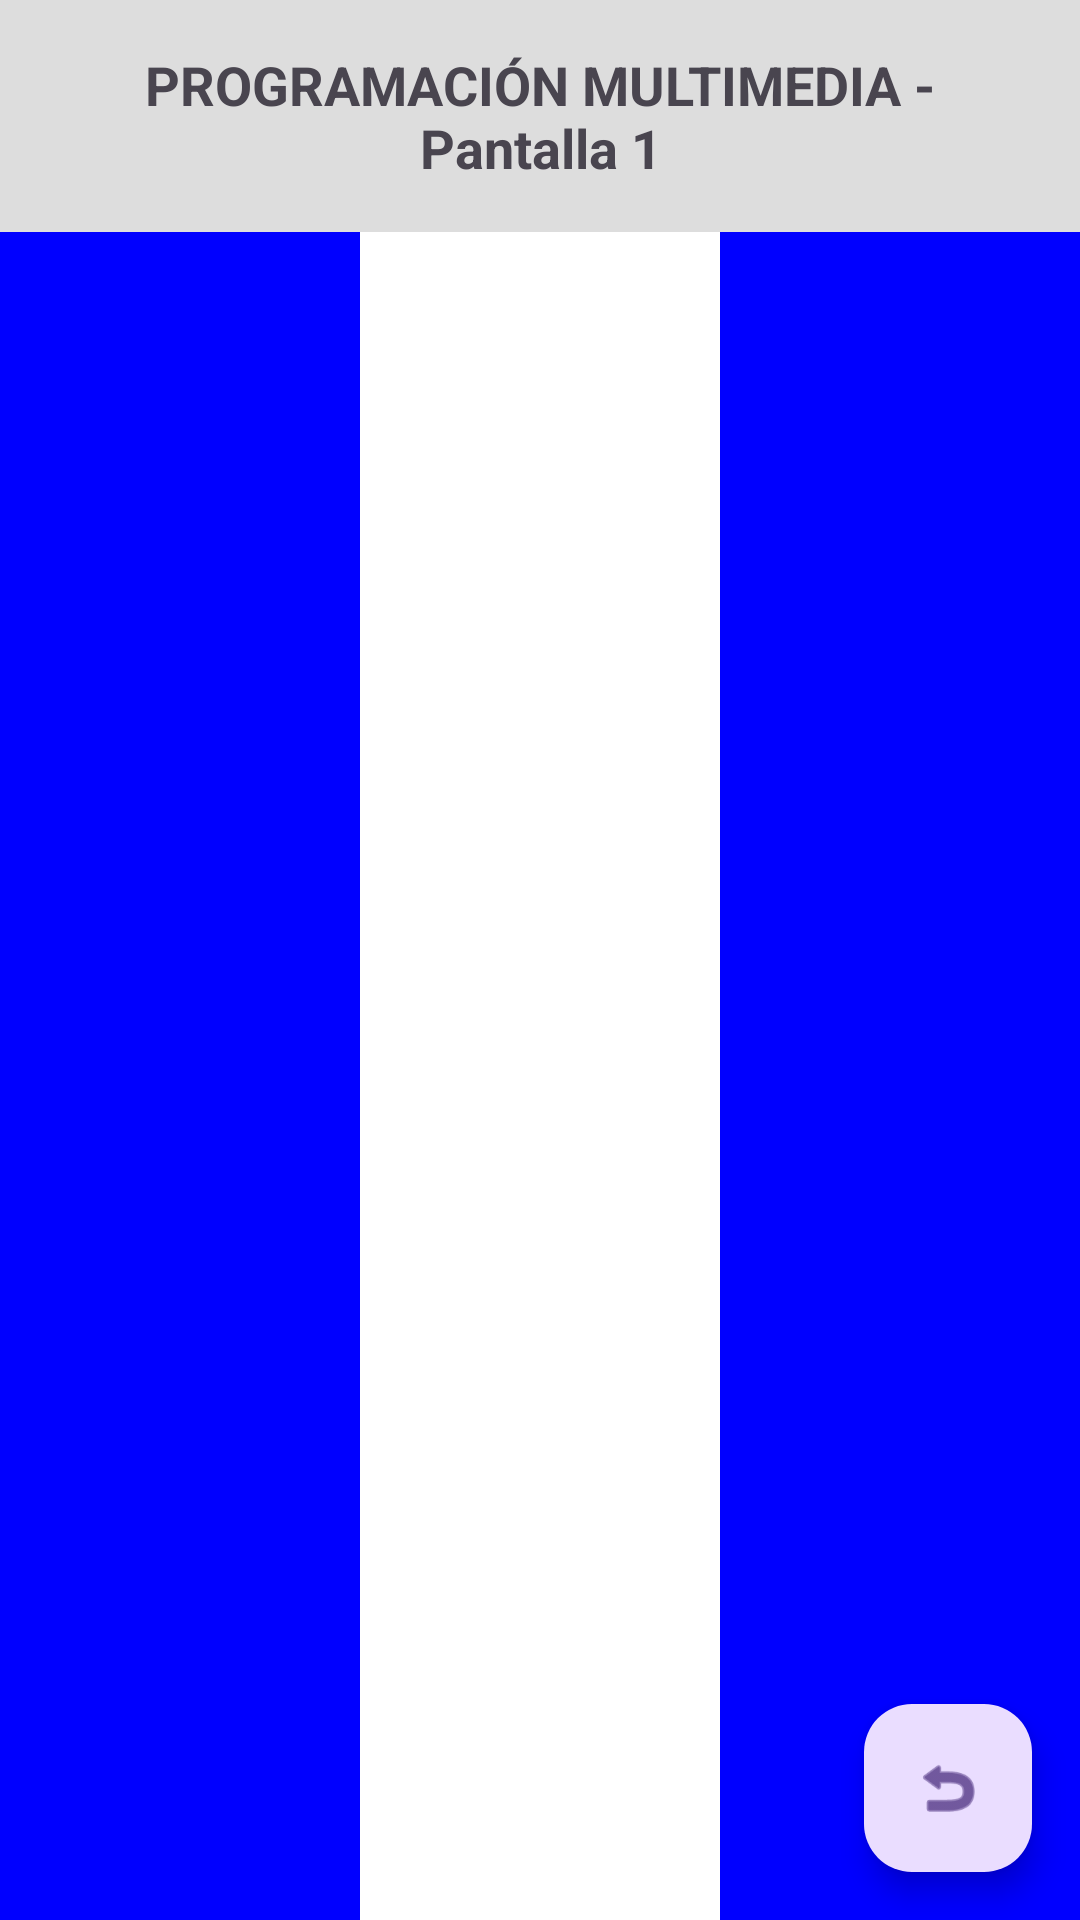

Named icons in this screenshot (1080x1920) and their centers, point (x, y):
Volver: point (948, 1788)
